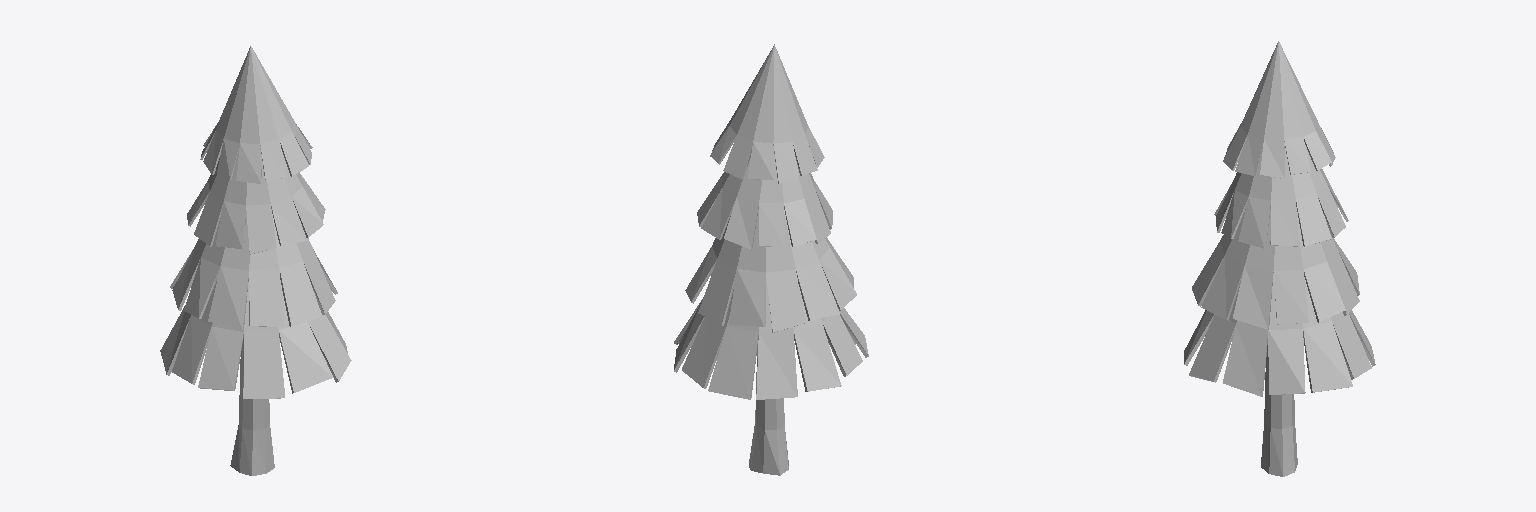
Rendered from tree2.obj.
The picture shows the model from 3 angles: view 1: azimuth 30°, elevation 25°; view 2: azimuth 150°, elevation 25°; view 3: azimuth 270°, elevation 25°; orthographic projection.
Parts seen in each view (by area): view 1: Tree2_Cylinder.024; view 2: Tree2_Cylinder.024; view 3: Tree2_Cylinder.024.
Part boxes in pixels (bbox=[...]): Tree2_Cylinder.024: bbox=[160, 46, 351, 475]; Tree2_Cylinder.024: bbox=[674, 44, 868, 475]; Tree2_Cylinder.024: bbox=[1184, 41, 1375, 476].
Bounding box in the file's own units: 50.56 × 126 × 51.39.